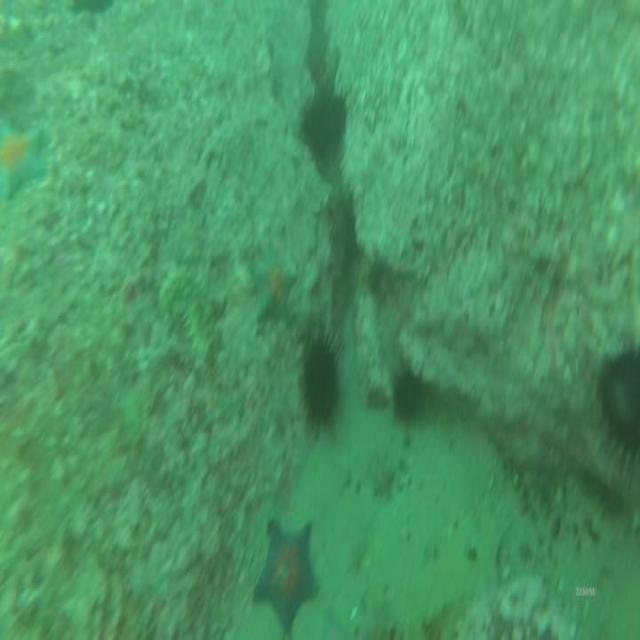echinus: (594, 335, 640, 479), (300, 322, 343, 438), (300, 93, 335, 163), (389, 367, 425, 428), (330, 89, 348, 139)
holothurian: (156, 265, 224, 384)
starfish: (252, 513, 322, 640), (0, 112, 50, 210), (248, 237, 298, 330), (365, 449, 399, 504)
